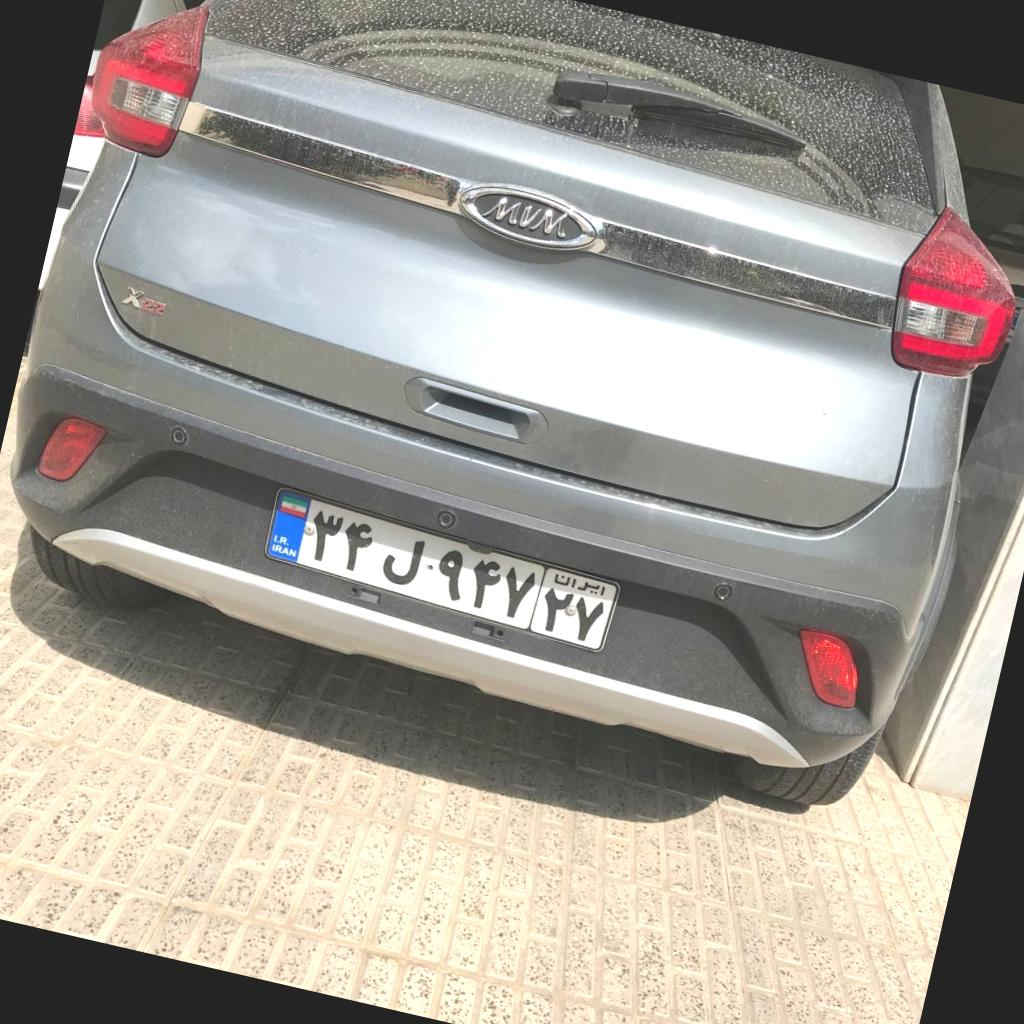Plates: (265, 488, 617, 650)
